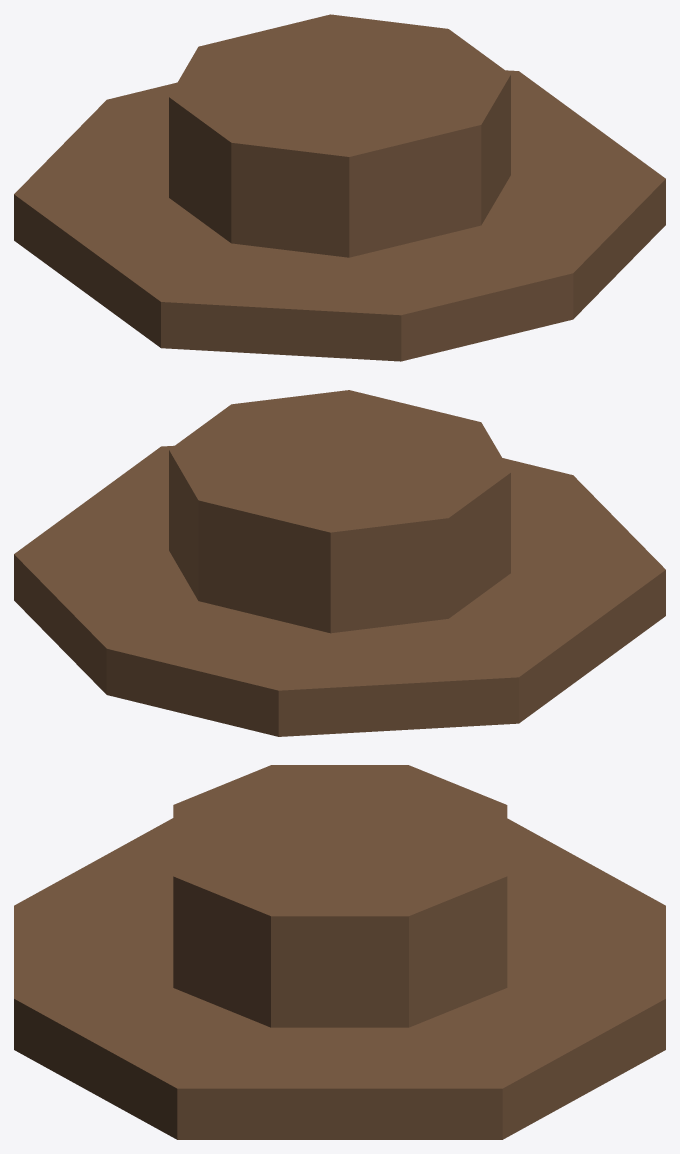
File: cowboy_hat.glb
3 views of the same model, one above another, from view 1: azimuth 30°, elevation 25°; view 2: azimuth 150°, elevation 25°; view 3: azimuth 270°, elevation 25° (orthographic). The views are drawn at different scales.
Parts seen in each view (by area): view 1: Cube; view 2: Cube; view 3: Cube.
Part boxes in pixels (box(x1,y1,x2,y2)): Cube: box(14, 14, 665, 361); Cube: box(14, 390, 665, 736); Cube: box(14, 765, 665, 1139).
Size of the model in its own units: 1.43 by 0.3967 by 1.44.
Materials: 1 (1 with a texture image).
